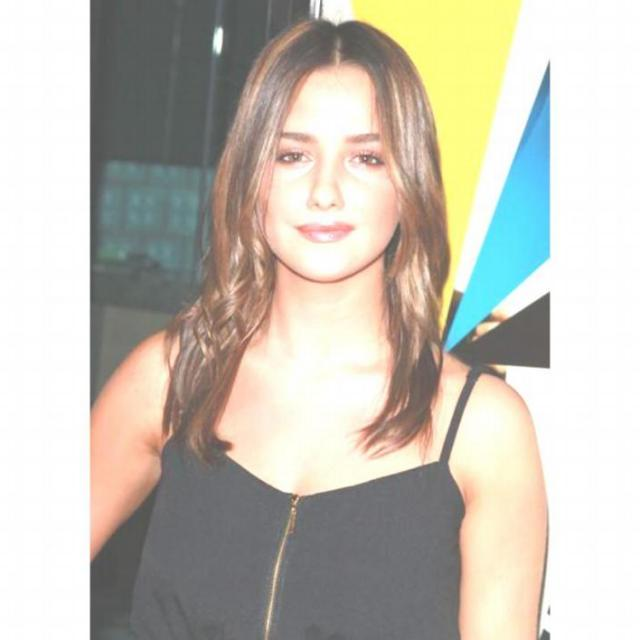live: (240, 53, 420, 289)
